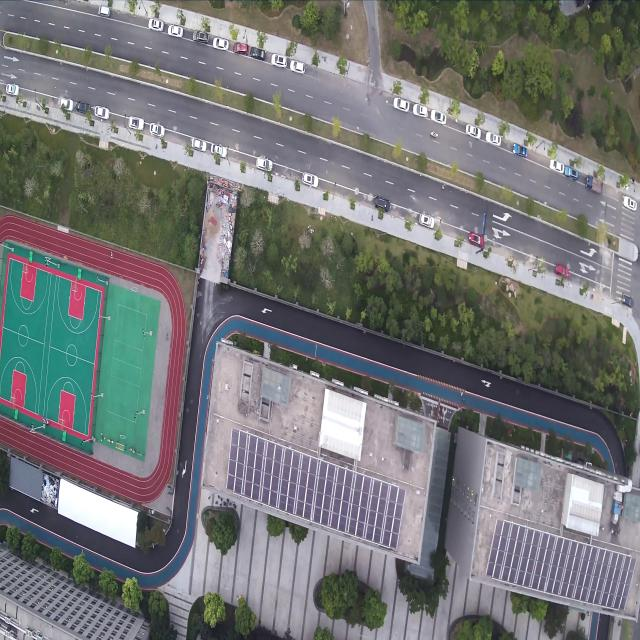drone: (205, 394, 210, 400)
